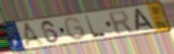6: (41, 20, 60, 44)
A: (23, 21, 48, 48), (135, 8, 157, 33)
G: (63, 16, 88, 42)
L: (83, 14, 109, 39)
R: (106, 10, 136, 36)
